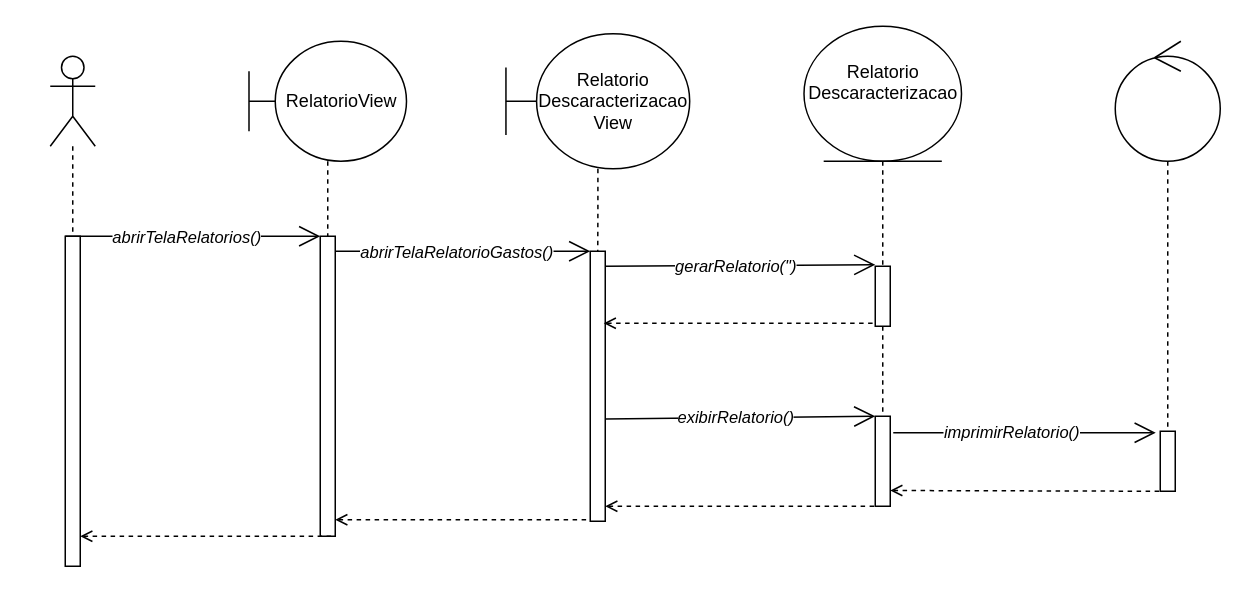
This 1247x593 diagram has some shape labels left out. Here are the shapes that lost their labels. From the top down, the centre of each, then its label:
pixel 72 100: Funcionario
pixel 1167 100: Relatorio Controller
